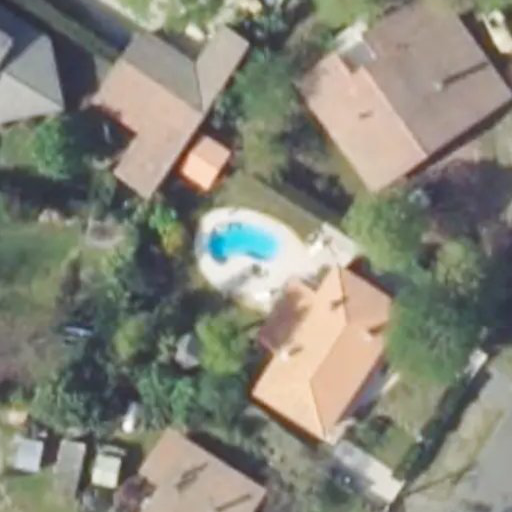pool: (206, 223, 286, 267)
